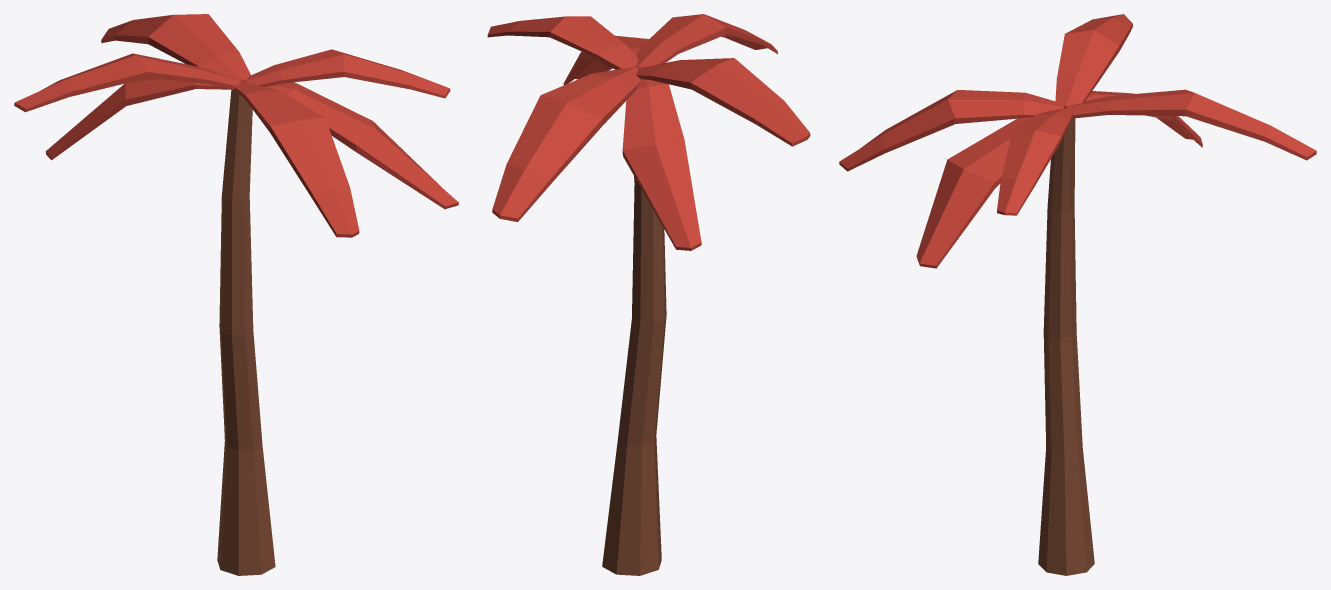
The model's file is Tree_38_summer_red_mat.fbx.
The picture shows the model from 3 angles, left to right: view 1: azimuth 30°, elevation 25°; view 2: azimuth 150°, elevation 25°; view 3: azimuth 270°, elevation 25°; orthographic projection. The views are drawn at different scales.
Visible parts, largest first — view 1: Tree_38_summer_red_mat; view 2: Tree_38_summer_red_mat; view 3: Tree_38_summer_red_mat.
Boxes of the visible parts, left/top/right/bottom form: Tree_38_summer_red_mat: left=14, top=14, right=458, bottom=575; Tree_38_summer_red_mat: left=487, top=14, right=810, bottom=575; Tree_38_summer_red_mat: left=839, top=14, right=1316, bottom=575.
Bounding box in the file's own units: 160 × 214 × 189.
